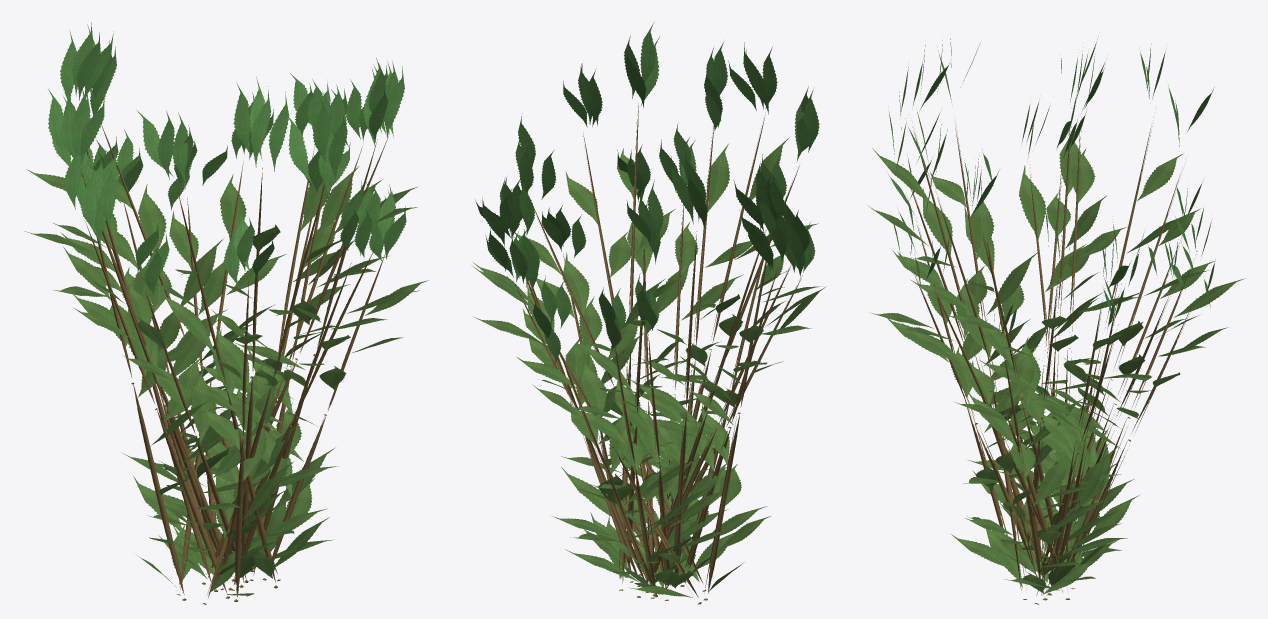
File: WEED_03_Seeded_Ragweed.glb
3 views of the same model, side by side, from view 1: azimuth 30°, elevation 25°; view 2: azimuth 150°, elevation 25°; view 3: azimuth 270°, elevation 25° (orthographic). The views are drawn at different scales.
Parts seen in each view (by area): view 1: WEED_03_Seeded_Ragweed__FoliageCards, WEED_03_Seeded_Ragweed__WoodyStems; view 2: WEED_03_Seeded_Ragweed__FoliageCards, WEED_03_Seeded_Ragweed__WoodyStems; view 3: WEED_03_Seeded_Ragweed__FoliageCards, WEED_03_Seeded_Ragweed__WoodyStems.
Part boxes in pixels (x1,y1,x2,y2): WEED_03_Seeded_Ragweed__FoliageCards: (24, 22, 428, 596); WEED_03_Seeded_Ragweed__WoodyStems: (74, 105, 389, 604); WEED_03_Seeded_Ragweed__FoliageCards: (471, 22, 826, 597); WEED_03_Seeded_Ragweed__WoodyStems: (512, 103, 802, 604); WEED_03_Seeded_Ragweed__FoliageCards: (868, 38, 1245, 594); WEED_03_Seeded_Ragweed__WoodyStems: (902, 107, 1197, 604).
Size of the model in its own units: 0.7402 by 1.08 by 0.72.
1 material, 1 textured.
